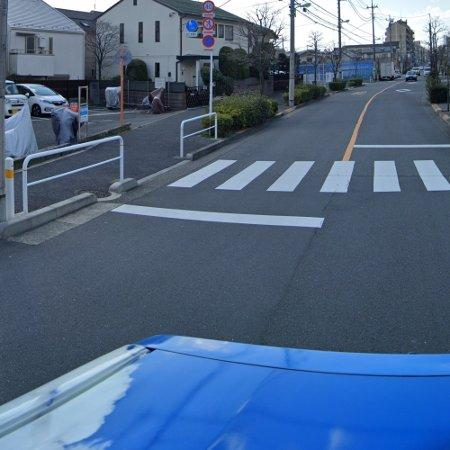crosswalks: (164, 159, 450, 195)
